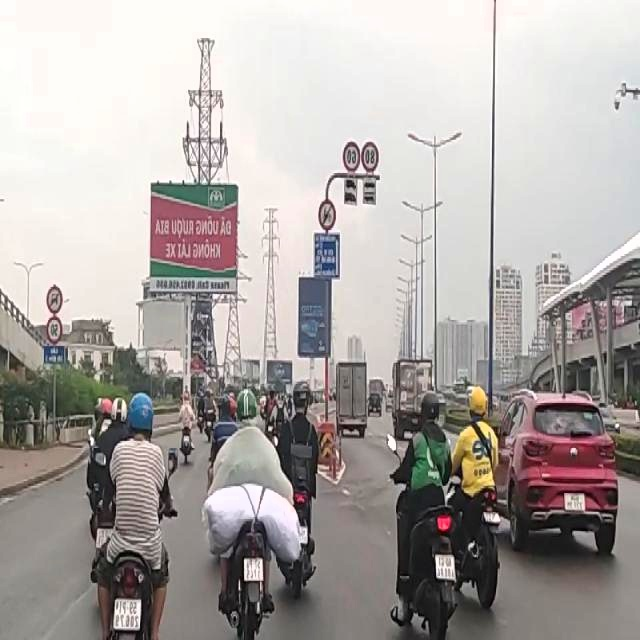P.103a: (47, 281, 63, 314)
P.104: (318, 198, 336, 231)
P.127*50: (47, 315, 61, 345)
P.127*60: (342, 142, 358, 172)
P.127*80: (362, 141, 378, 172)
